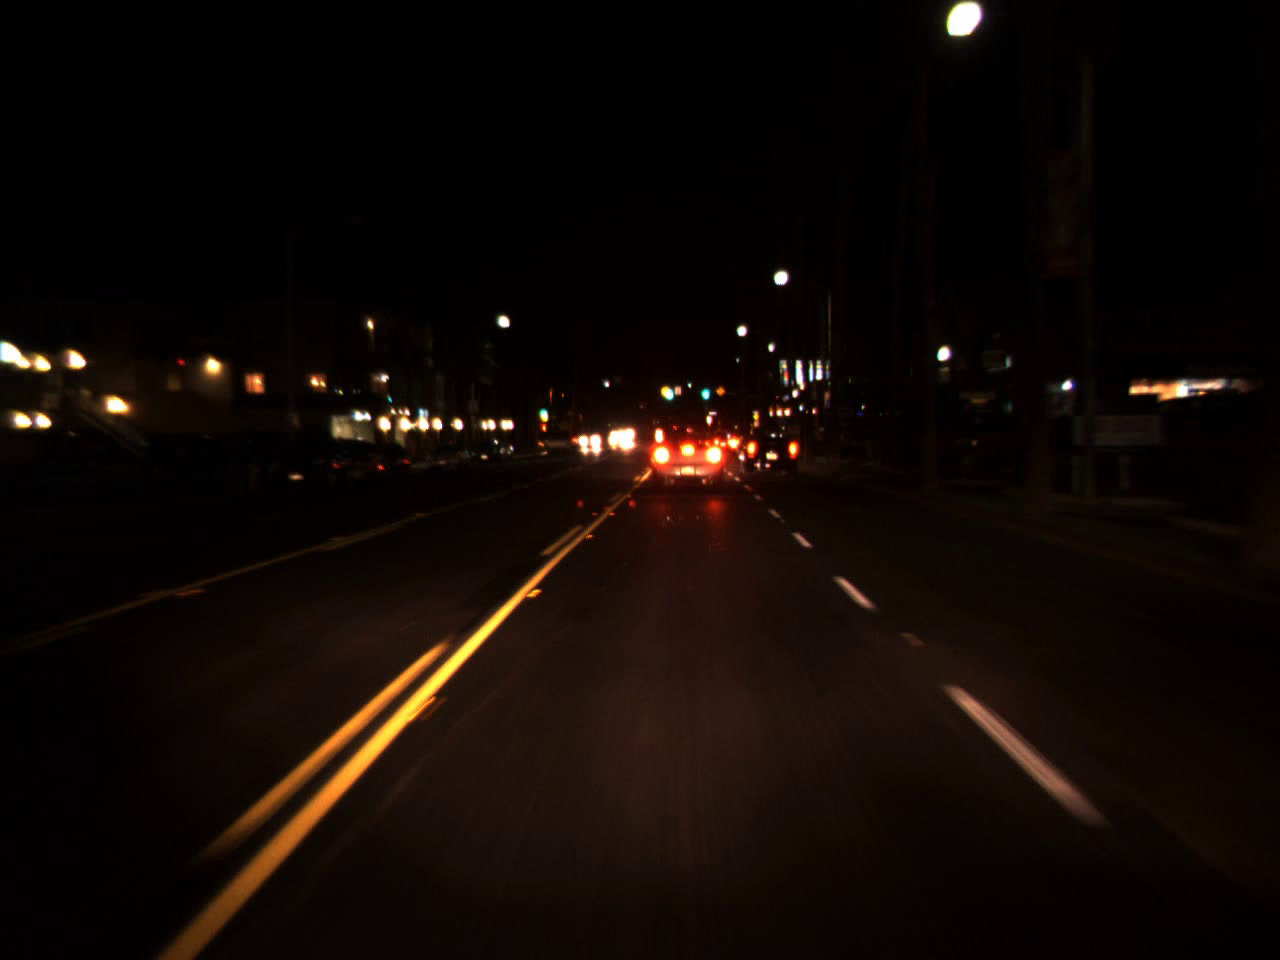go: (660, 381, 672, 402), (698, 381, 710, 399), (539, 402, 548, 417)
